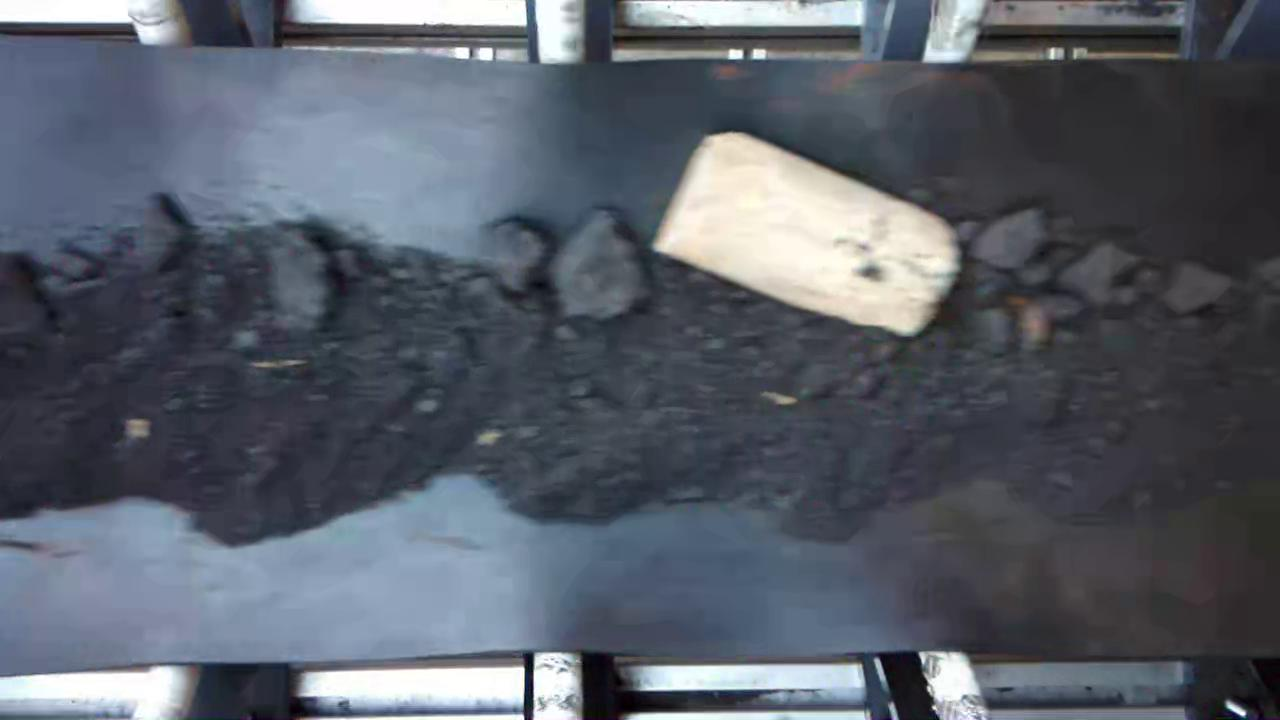conveyor: (13, 73, 1275, 645)
